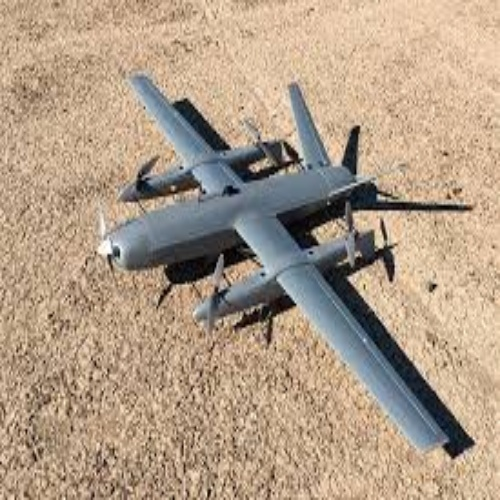uav450: (95, 70, 450, 449)
